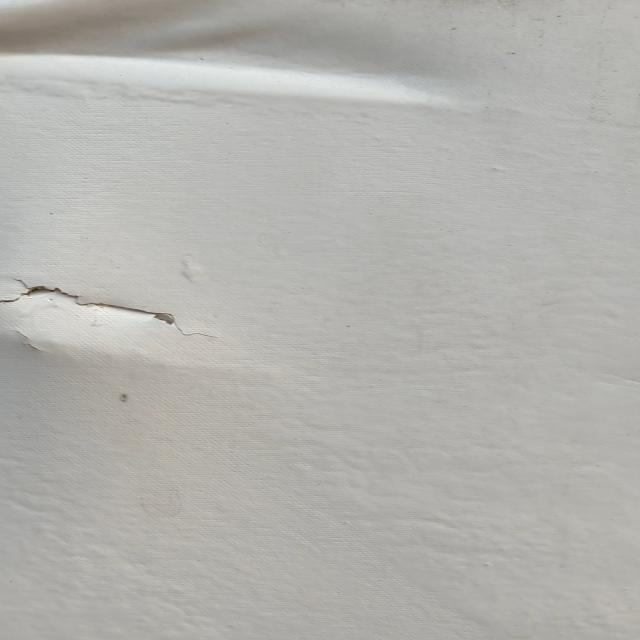Dents or Deformation: (1, 1, 502, 122)
Scratches: (1, 281, 271, 361)
